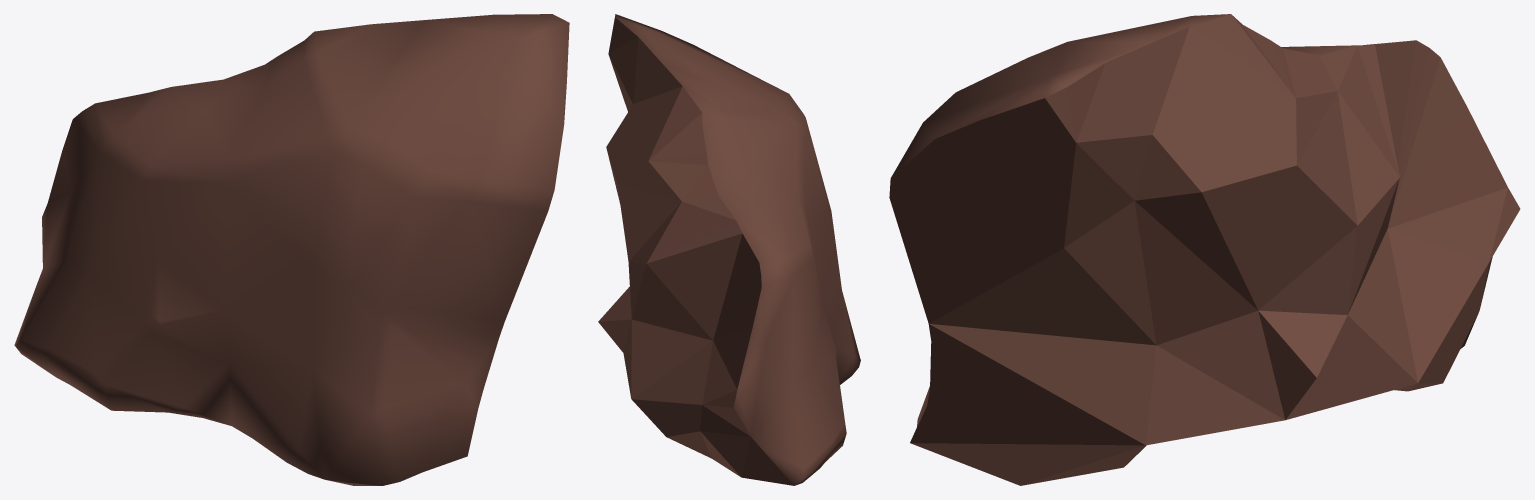
Rendered from p_mesh_hvs_rock_medium01_destruction_part03.fbx.
3 views of the same model, side by side, from view 1: azimuth 30°, elevation 25°; view 2: azimuth 150°, elevation 25°; view 3: azimuth 270°, elevation 25° (orthographic). The views are drawn at different scales.
Parts seen in each view (by area): view 1: p_medium_destruction_part03; view 2: p_medium_destruction_part03; view 3: p_medium_destruction_part03.
Part boxes in pixels (left/top/right/bottom): p_medium_destruction_part03: left=14, top=14, right=569, bottom=485; p_medium_destruction_part03: left=598, top=14, right=860, bottom=485; p_medium_destruction_part03: left=889, top=14, right=1520, bottom=485.
Bounding box in the file's own units: 4.93 × 4.88 × 5.52.
